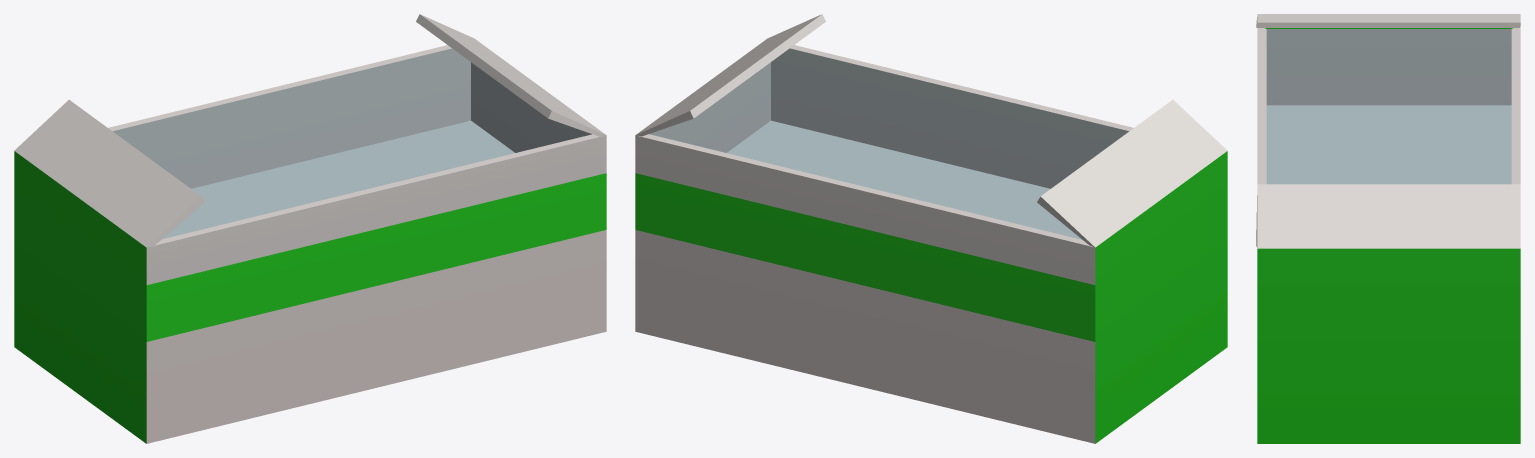
File: Pfb_JLAB_Box__4.fbx
3 views of the same model, side by side, from view 1: azimuth 30°, elevation 25°; view 2: azimuth 150°, elevation 25°; view 3: azimuth 270°, elevation 25° (orthographic).
Visible parts, largest first — view 1: Color; view 2: Color; view 3: Color.
Boxes of the visible parts, x1,y1,x2,y2 form: Color: (14,14,606,443); Color: (635,14,1227,443); Color: (1256,14,1520,443).
Bounding box in the file's own units: 0.2438 × 0.1185 × 0.122.
1 material, 1 textured.
